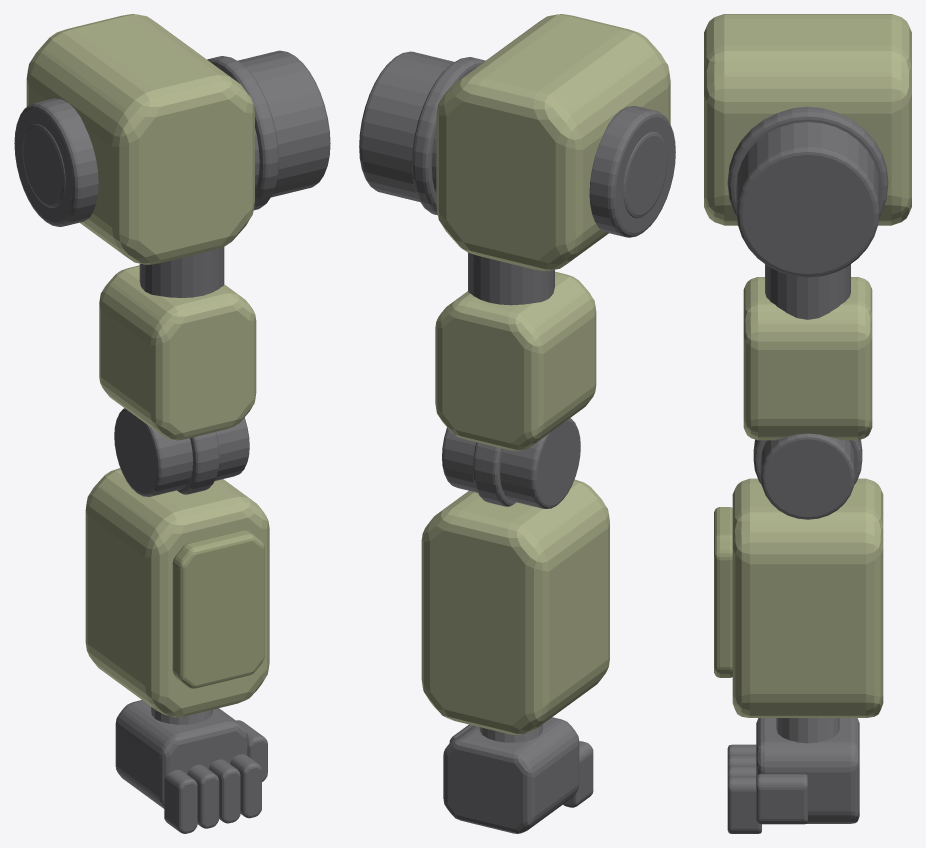
The model's file is recon_sheet_arm_r.glb.
3 views of the same model, side by side, from view 1: azimuth 30°, elevation 25°; view 2: azimuth 150°, elevation 25°; view 3: azimuth 270°, elevation 25° (orthographic). The views are drawn at different scales.
Parts seen in each view (by area): view 1: PauldronR, ForearmR, UpperArmR, ForearmPlateR, ShoulderJointR, ShoulderCapR, FistR, ElbowR, UpperJointR, FingerR3, FingerR2, FingerR1 (+2 smaller); view 2: ForearmR, PauldronR, UpperArmR, FistR, ShoulderJointR, ShoulderCapR, ElbowR, UpperJointR, FingerR3, WristR; view 3: ForearmR, PauldronR, ShoulderJointR, UpperArmR, ElbowR, FistR, UpperJointR, ForearmPlateR, ThumbR, FingerR, WristR.
Part boxes in pixels (box(x1,y1,x2,y2)): PauldronR: box(26, 14, 254, 264); ForearmR: box(85, 468, 269, 717); UpperArmR: box(99, 265, 256, 440); ForearmPlateR: box(172, 530, 264, 688); ShoulderJointR: box(207, 50, 330, 210); ShoulderCapR: box(14, 98, 98, 226); FistR: box(115, 700, 248, 808); ElbowR: box(114, 408, 249, 496); UpperJointR: box(139, 247, 224, 297); FingerR3: box(164, 770, 197, 833); FingerR2: box(187, 764, 219, 828); FingerR1: box(209, 759, 240, 823); ForearmR: box(421, 479, 609, 735); PauldronR: box(436, 14, 670, 271); UpperArmR: box(435, 271, 596, 450); FistR: box(443, 717, 579, 833); ShoulderJointR: box(359, 51, 485, 215); ShoulderCapR: box(589, 106, 675, 237); ElbowR: box(442, 418, 580, 508); UpperJointR: box(468, 252, 554, 305); FingerR3: box(563, 741, 593, 807); WristR: box(479, 724, 542, 742); ForearmR: box(732, 478, 883, 717); PauldronR: box(704, 14, 911, 225); ShoulderJointR: box(727, 106, 888, 277); UpperArmR: box(743, 277, 872, 440); ElbowR: box(753, 433, 862, 519); FistR: box(756, 718, 859, 823); UpperJointR: box(765, 264, 850, 319); ForearmPlateR: box(714, 507, 732, 677); ThumbR: box(756, 774, 807, 824); FingerR: box(727, 776, 761, 833); WristR: box(776, 718, 839, 743).
Bounding box in the file's own units: 2.05 × 5.89 × 1.45.
